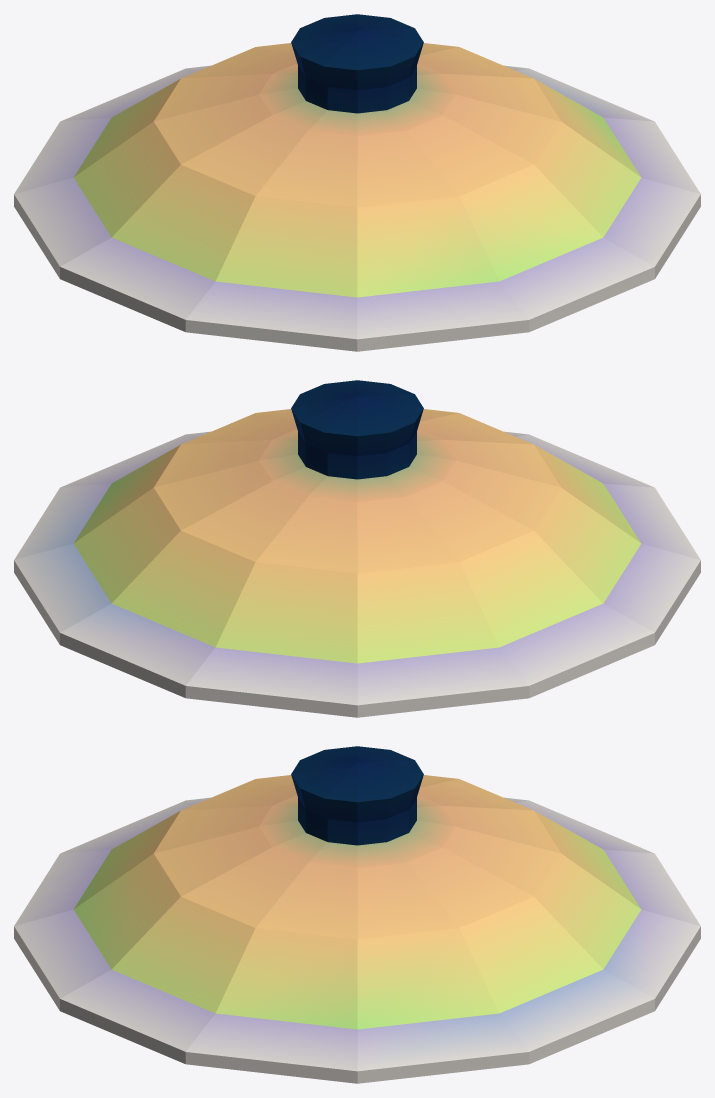
The picture shows the model from 3 angles, top to bottom: view 1: azimuth 30°, elevation 25°; view 2: azimuth 150°, elevation 25°; view 3: azimuth 270°, elevation 25°; orthographic projection.
Visible parts, largest first — view 1: skirt, lip, stem; view 2: skirt, lip, stem; view 3: skirt, lip, stem.
Boxes of the visible parts, left/top/right/bottom form: skirt: left=73, top=43, right=641, bottom=297; lip: left=14, top=65, right=700, bottom=351; stem: left=291, top=14, right=423, bottom=113; skirt: left=73, top=409, right=641, bottom=663; lip: left=14, top=431, right=700, bottom=717; stem: left=291, top=380, right=423, bottom=479; skirt: left=73, top=775, right=641, bottom=1029; lip: left=14, top=797, right=700, bottom=1083; stem: left=291, top=746, right=423, bottom=845.
Size of the model in its own units: 0.3 by 0.0848 by 0.3.
